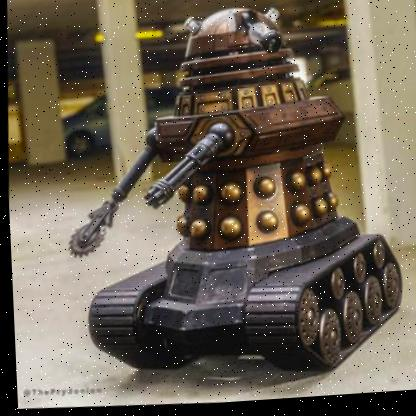dalek: (52, 0, 416, 413)
